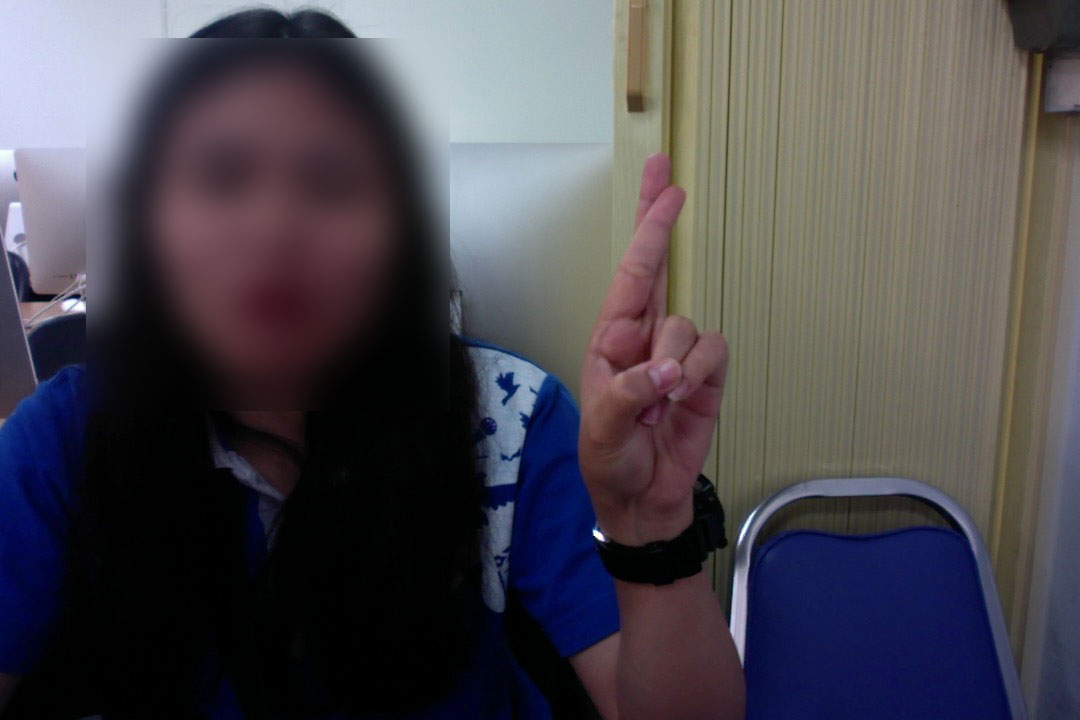rao: (576, 148, 734, 534)
